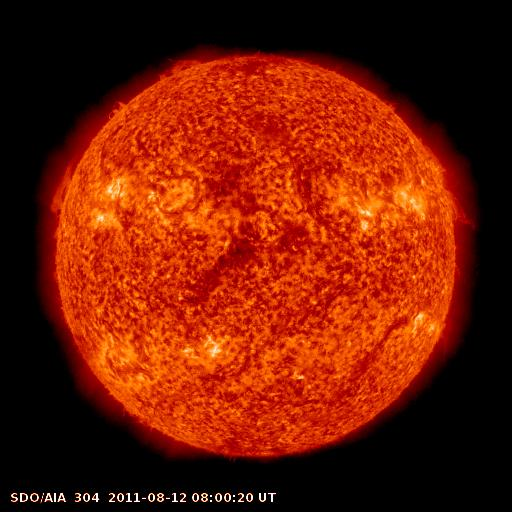prominence: (46, 148, 85, 221), (434, 183, 478, 233), (154, 53, 213, 83), (102, 94, 136, 130)
